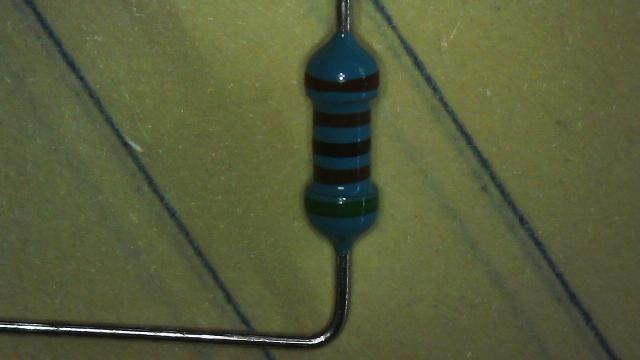black: (312, 138, 370, 158)
brown: (305, 71, 380, 92), (312, 164, 370, 184), (314, 109, 371, 127)
green: (306, 194, 377, 217)
resistor: (288, 29, 401, 252)
